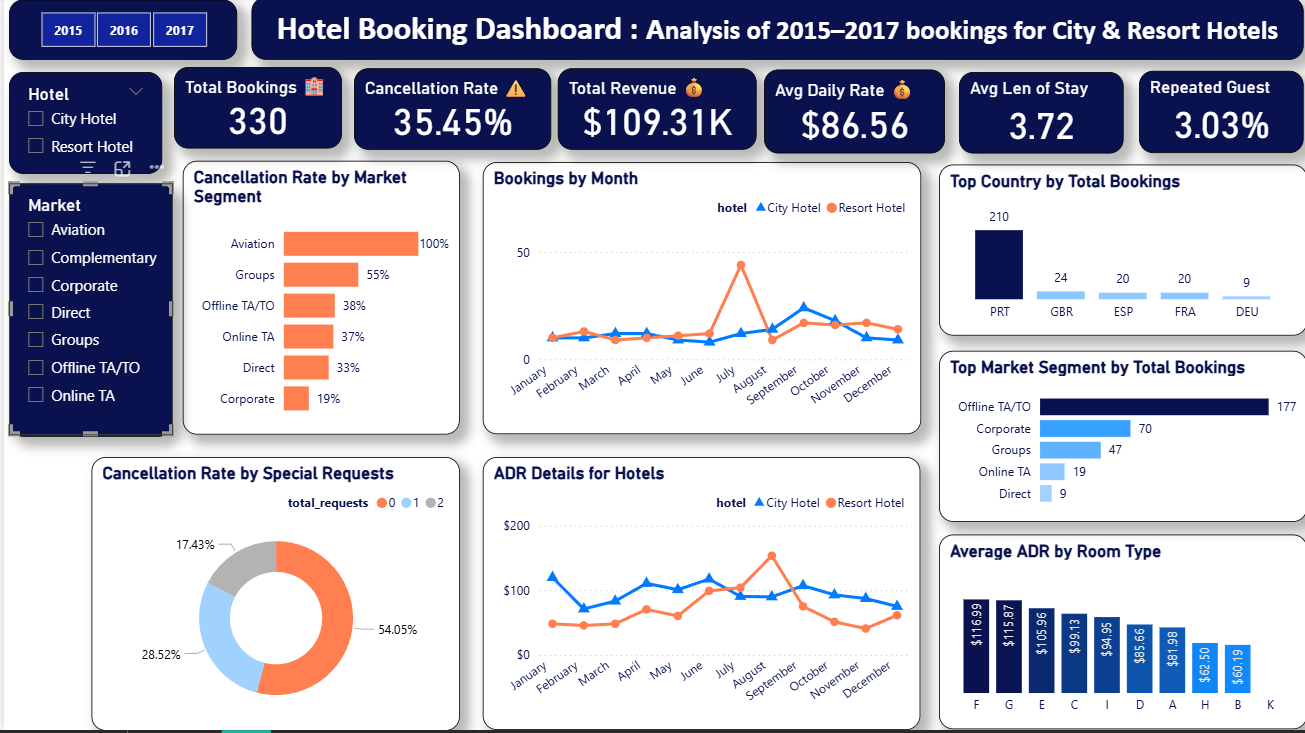

Layout of this report page (visuals, bound fields, positions):
{"tool":"powerbi","page":{"name":"Page 1","canvas":[1280,720],"ordinal":0},"visuals":[{"type":"card","title":"Total Bookings 🏨","fields":{"Values":["CountNonNull(hotel_booking.reservation_status)"]},"box":[166.6,69,164.4,79.8],"z":0},{"type":"card","title":"Cancellation Rate ⚠️","fields":{"Values":["hotel_booking.Cancellation Rate"]},"box":[343.6,69.9,193.4,79.8],"z":1000},{"type":"card","title":"Avg Daily Rate 💰","fields":{"Values":["Avg(hotel_booking.adr)"]},"box":[746,71.2,177.9,82.2],"z":2000},{"type":"card","title":"Avg Len of Stay","fields":{"Values":["Avg(hotel_booking.Total Nights)"]},"box":[937.4,73.6,162,79.8],"z":3000},{"type":"card","title":"Total Revenue 💰","fields":{"Values":["hotel_booking.Total Revenue"]},"box":[543.6,69.9,195.1,79.8],"z":4000},{"type":"barChart","title":"Cancellation Rate by Market Segment","fields":{"Category":["hotel_booking.market_segment"],"Y":["hotel_booking.Cancellation Rate"]},"box":[175.5,160.7,272.4,268.7],"z":5000},{"type":"lineChart","title":"Bookings by Month ","fields":{"Y":["CountNonNull(hotel_booking.reservation_status)"],"Series":["hotel_booking.hotel"],"Category":["hotel_booking.reservation_status_date.Variation.Date Hierarchy.Month"]},"box":[469.9,162,430.7,267.5],"z":6000},{"type":"clusteredColumnChart","title":"Top Country by Total Bookings ","fields":{"Category":["hotel_booking.country"],"Y":["CountNonNull(hotel_booking.reservation_status)"]},"box":[917.8,164.4,362,168.1],"z":7000},{"type":"lineChart","title":"ADR Details for Hotels","fields":{"Y":["Avg(hotel_booking.adr)"],"Series":["hotel_booking.hotel"],"Category":["hotel_booking.arrival_date.Variation.Date Hierarchy.Month"]},"box":[469.9,452,429.8,268],"z":8000},{"type":"clusteredBarChart","title":"Top Market Segment by Total Bookings","fields":{"Category":["hotel_booking.market_segment"],"Y":["CountNonNull(hotel_booking.reservation_status)"]},"box":[917.8,347.2,362,168.1],"z":9000},{"type":"donutChart","title":"Cancellation Rate by Special Requests","fields":{"Category":["hotel_booking.total_of_special_requests"],"Y":["hotel_booking.Cancellation Rate"]},"box":[85.9,451.5,362,268.7],"z":10000},{"type":"slicer","fields":{"Values":["hotel_booking.arrival_date.Variation.Date Hierarchy.Year"]},"box":[5.1,2.5,223.9,59.5],"z":11000},{"type":"slicer","fields":{"Values":["hotel_booking.hotel"]},"box":[5.1,73.4,150.5,99.9],"z":12000},{"type":"slicer","fields":{"Values":["hotel_booking.market_segment"]},"box":[5.2,182.5,160.5,248.5],"z":13000},{"type":"card","title":"Repeated Guest","fields":{"Values":["hotel_booking.Repeated Guest %"]},"box":[1114.1,72.4,162,81],"z":14000},{"type":"textbox","box":[242.9,0,1033.1,61.4],"z":15000},{"type":"clusteredColumnChart","title":"Average ADR by Room Type","fields":{"Y":["Avg(hotel_booking.adr)"],"Category":["hotel_booking.assigned_room_type"]},"box":[917.8,527.6,362,191.4],"z":16000}]}

Visuals, with their boxes in screenshot pixels (x1, y1, x2, y2), scaled from the page's 1280x720 canvas onto the 1305x733 screenshot:
"Total Bookings 🏨" card: 170,70,337,151
"Cancellation Rate ⚠️" card: 350,71,547,152
"Avg Daily Rate 💰" card: 761,72,942,156
"Avg Len of Stay" card: 956,75,1121,156
"Total Revenue 💰" card: 554,71,753,152
"Cancellation Rate by Market Segment" barChart: 179,164,457,437
"Bookings by Month " lineChart: 479,165,918,437
"Top Country by Total Bookings " clusteredColumnChart: 936,167,1304,339
"ADR Details for Hotels" lineChart: 479,460,917,732
"Top Market Segment by Total Bookings" clusteredBarChart: 936,353,1304,525
"Cancellation Rate by Special Requests" donutChart: 88,460,457,732
slicer - hotel_booking.arrival_date.Variation.Date Hierarchy.Year: 5,3,233,63
slicer - hotel_booking.hotel: 5,75,159,176
slicer - hotel_booking.market_segment: 5,186,169,439
"Repeated Guest" card: 1136,74,1301,156
textbox: 248,0,1301,63
"Average ADR by Room Type" clusteredColumnChart: 936,537,1304,732
